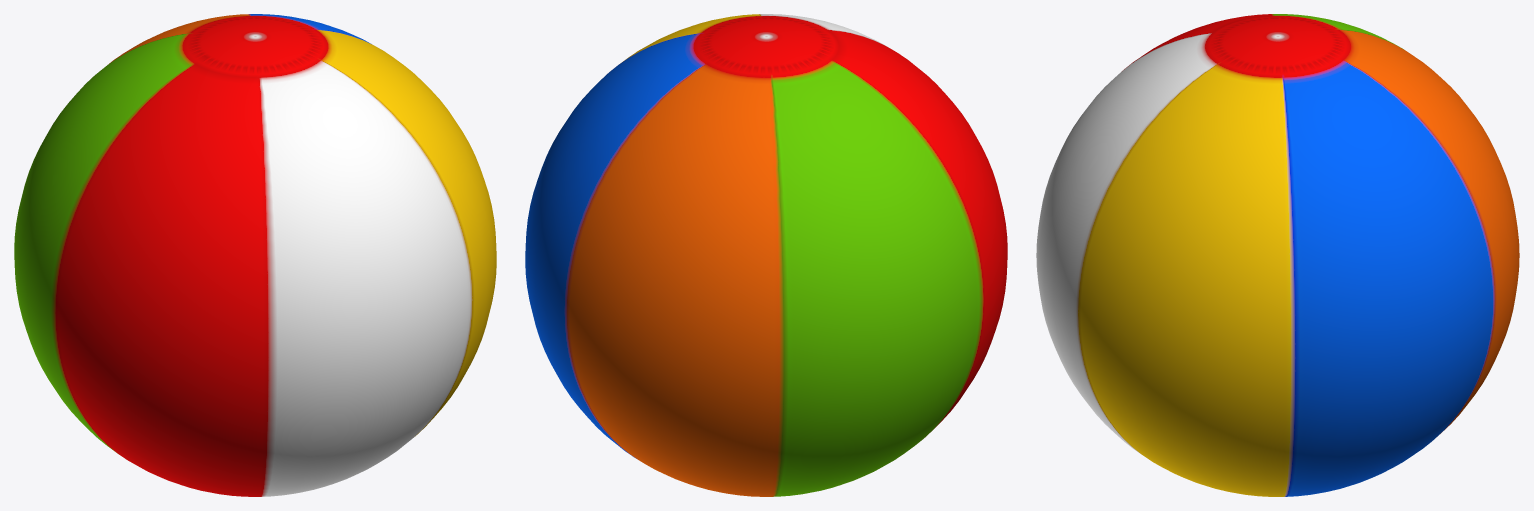
File: uploads_files_2702350_Beach+Ball.glb
3 renders of one model, left to right at view 1: azimuth 30°, elevation 25°; view 2: azimuth 150°, elevation 25°; view 3: azimuth 270°, elevation 25°, orthographic.
Visible parts, largest first — view 1: Sphere; view 2: Sphere; view 3: Sphere.
Boxes of the visible parts, x1,y1,x2,y2 form: Sphere: (14,14,496,496); Sphere: (525,14,1007,496); Sphere: (1036,14,1519,496).
Size of the model in its own units: 2 by 2 by 2.
Materials: 1 (1 with a texture image).
